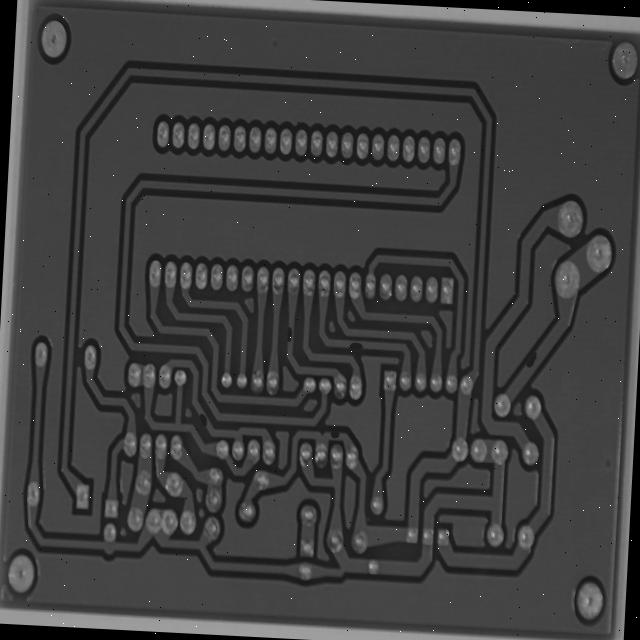mouse_bite: (514, 286, 537, 314), (321, 273, 348, 294), (162, 359, 179, 389), (254, 256, 272, 284), (303, 380, 323, 401)
